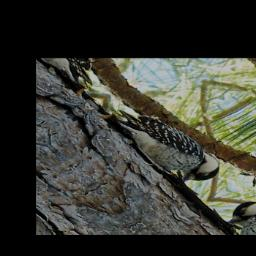Woodpecker: (101, 93, 228, 193)
